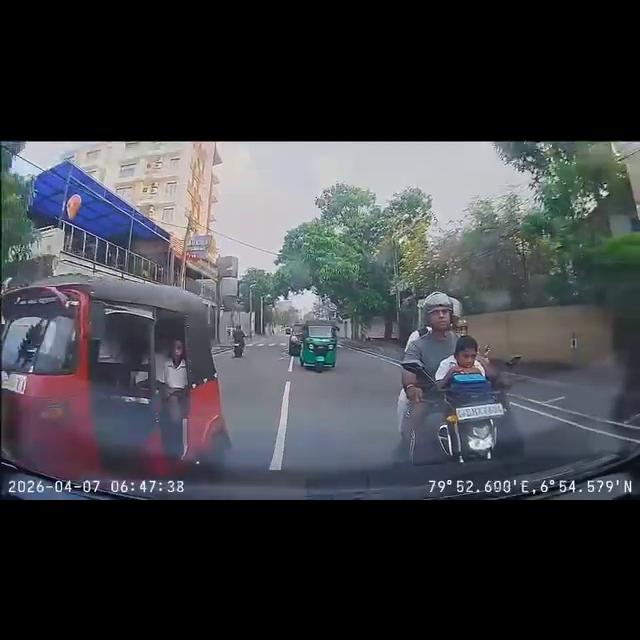helmet: (420, 291, 454, 329)
motorcycle: (415, 382, 517, 478)
person: (423, 296, 451, 380), (452, 340, 476, 378)
three_wheeler: (32, 292, 212, 466), (305, 318, 337, 372)
